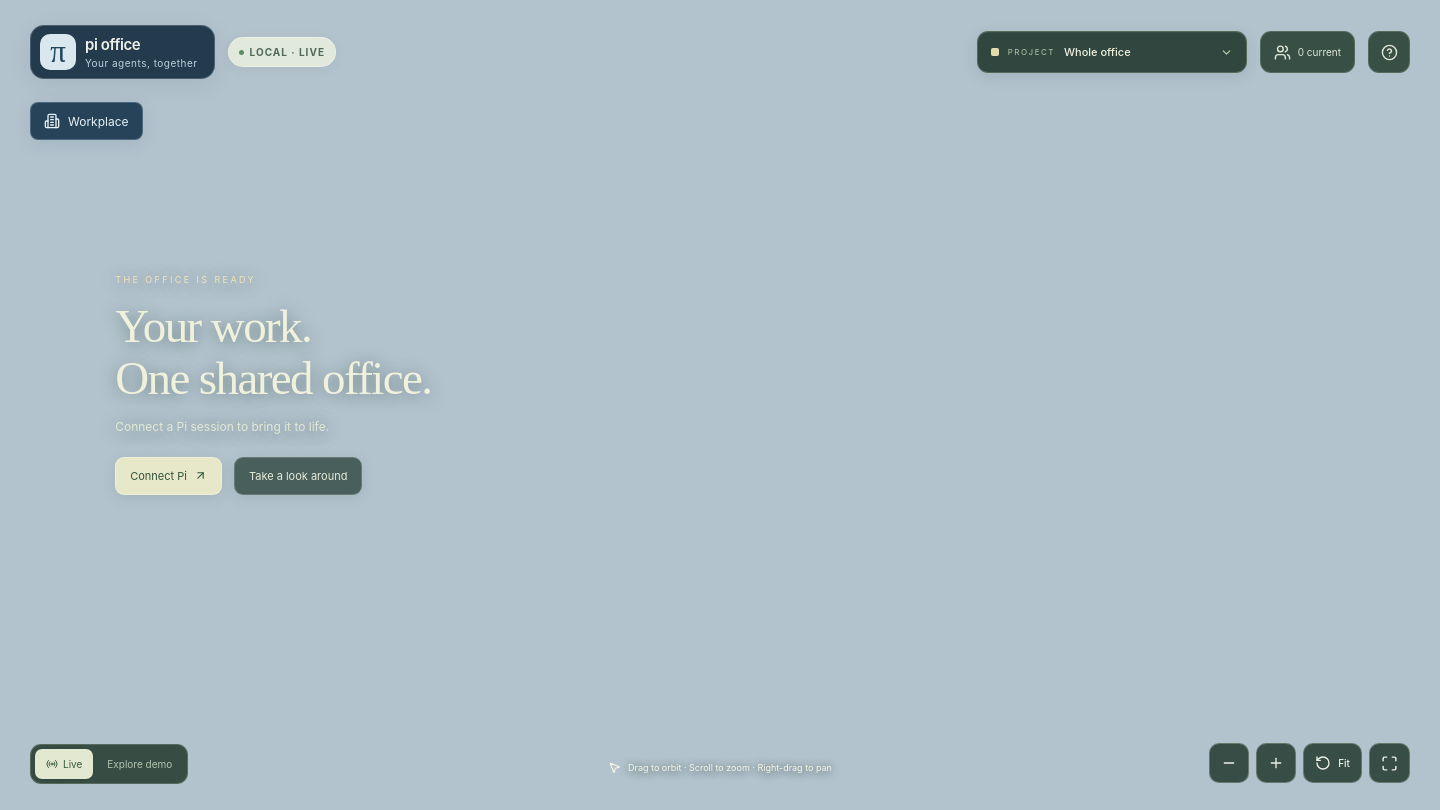
Test: camera controls UI › keeps zoom and fit discoverable and explains scoped keyboard plus touch controls
Expected: the element named "Camera controls" is shown, [1209, 743, 1410, 783]
Expected: the button named "Zoom in" is shown, [1256, 743, 1296, 783]
Step 1. Click the button named "Open guide" → (1389, 52), box [1368, 31, 1410, 73]
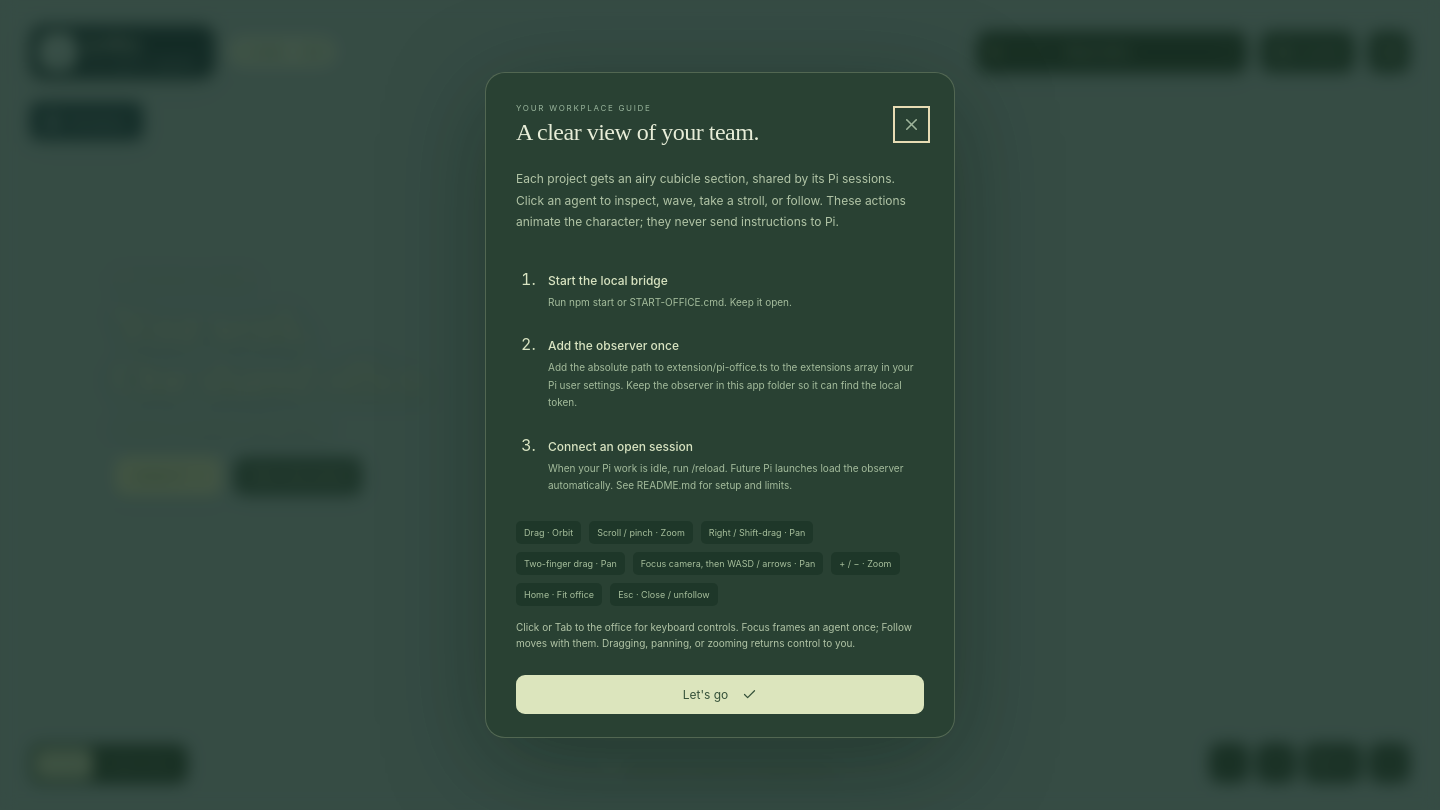
Expected: the text "Two-finger drag · Pan" is shown, [516, 552, 625, 575]
Expected: the text "Home · Fit office" is shown, [516, 583, 602, 606]
Step 2. Press Escape
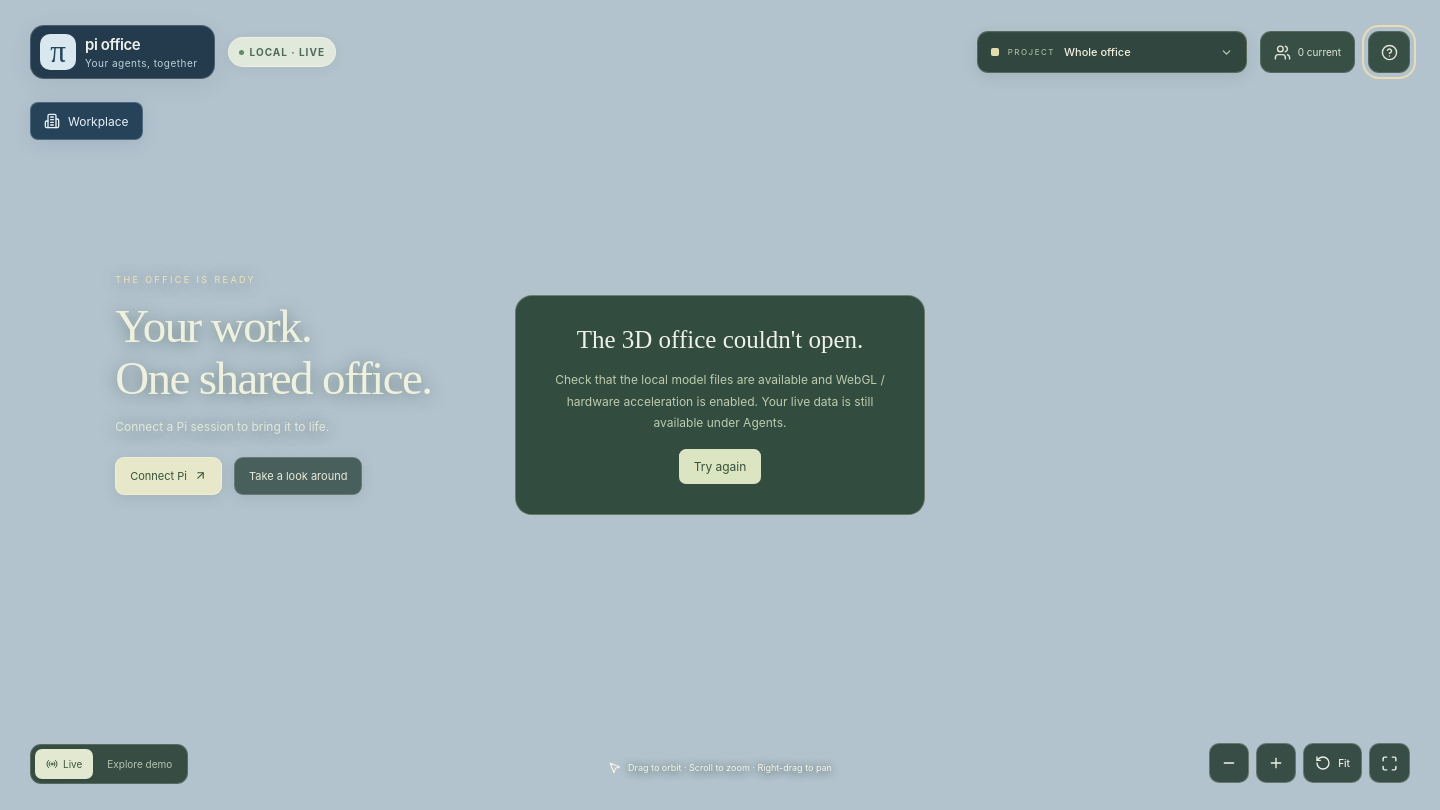
Expected: the dialog is gone
